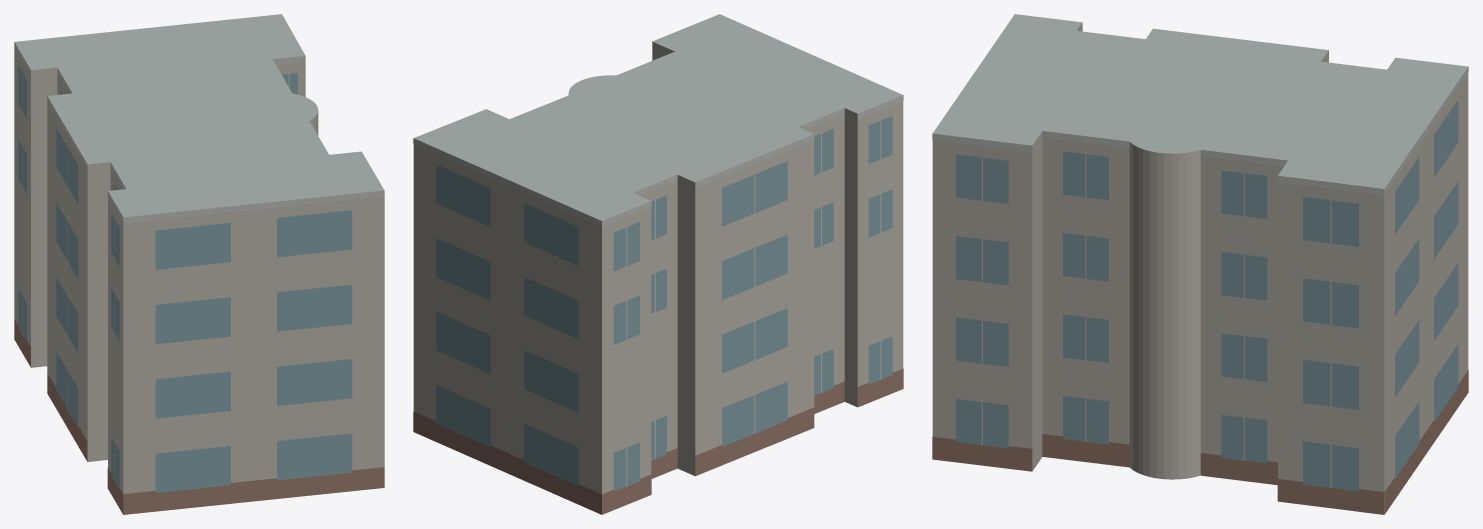
The model's file is survey-upis-32869376.glb.
3 views of the same model, side by side, from view 1: azimuth 30°, elevation 25°; view 2: azimuth 150°, elevation 25°; view 3: azimuth 270°, elevation 25° (orthographic). The views are drawn at different scales.
Visible parts, largest first — view 1: survey-upis-32869376.tmp; view 2: survey-upis-32869376.tmp; view 3: survey-upis-32869376.tmp.
Part boxes in pixels (x1,y1,x2,y2): survey-upis-32869376.tmp: (14,14,384,514); survey-upis-32869376.tmp: (413,14,903,514); survey-upis-32869376.tmp: (932,14,1468,514).
Bounding box in the file's own units: 14.17 × 12.3 × 18.35.
